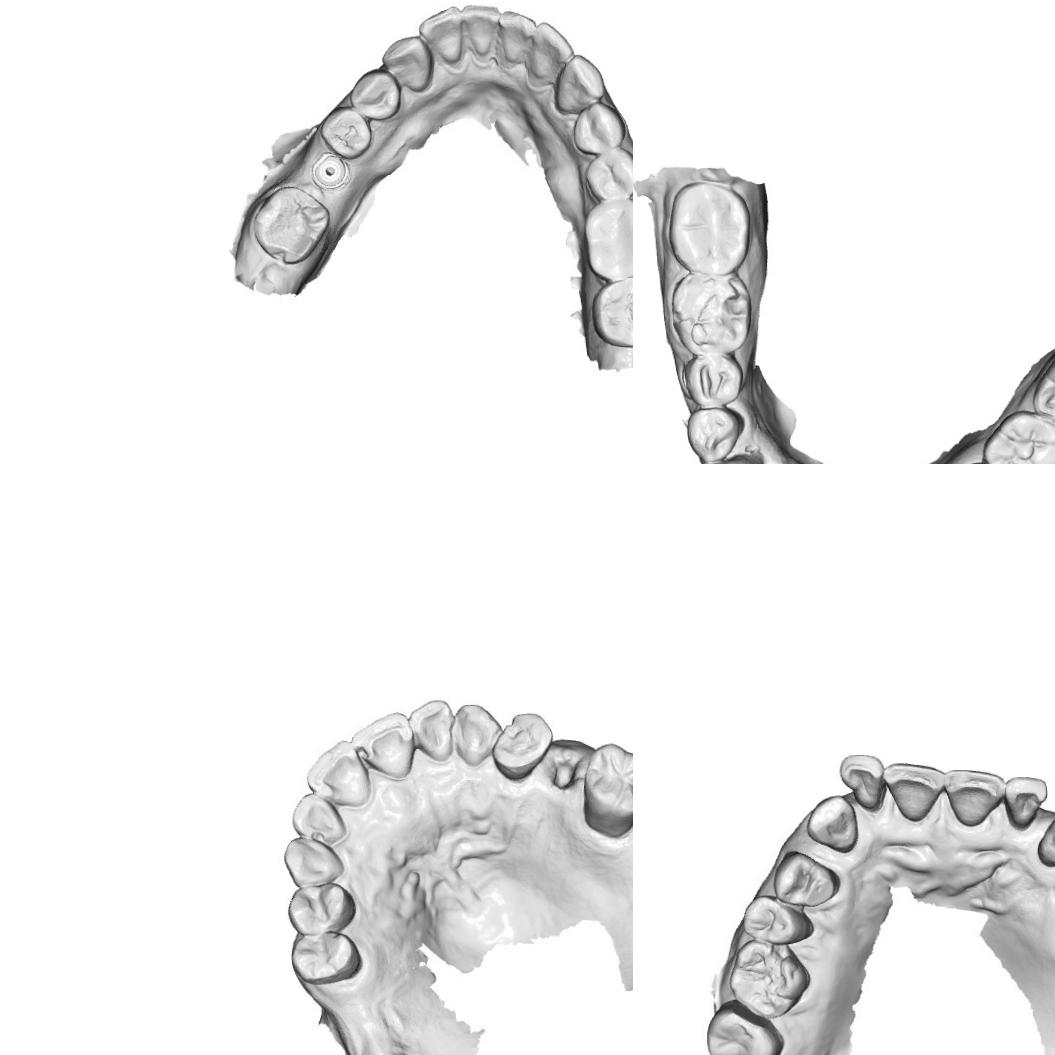canine: (278, 833, 346, 888), (803, 795, 860, 857), (552, 54, 606, 115), (382, 34, 433, 92), (452, 703, 499, 765), (1034, 811, 1055, 874)
implant: (311, 156, 348, 190)
incisor: (307, 742, 370, 804), (884, 759, 946, 822), (944, 765, 1006, 828), (361, 712, 414, 770), (416, 6, 466, 67), (839, 750, 888, 811), (525, 22, 573, 84), (290, 794, 346, 844), (412, 704, 459, 760), (1004, 772, 1048, 830), (495, 12, 536, 66), (464, 3, 500, 60)
molar: (664, 179, 752, 275), (668, 267, 756, 357), (248, 184, 330, 268), (728, 939, 812, 1018), (574, 744, 633, 840), (701, 996, 783, 1055), (980, 405, 1055, 464), (583, 199, 633, 283), (592, 276, 633, 348), (1028, 346, 1055, 441)
premolar: (490, 710, 554, 783), (740, 894, 817, 950), (678, 350, 744, 413), (776, 848, 839, 910), (288, 931, 359, 986), (685, 407, 744, 464), (348, 66, 400, 122), (287, 884, 347, 932), (320, 105, 373, 159), (572, 105, 624, 154), (590, 154, 633, 203)
